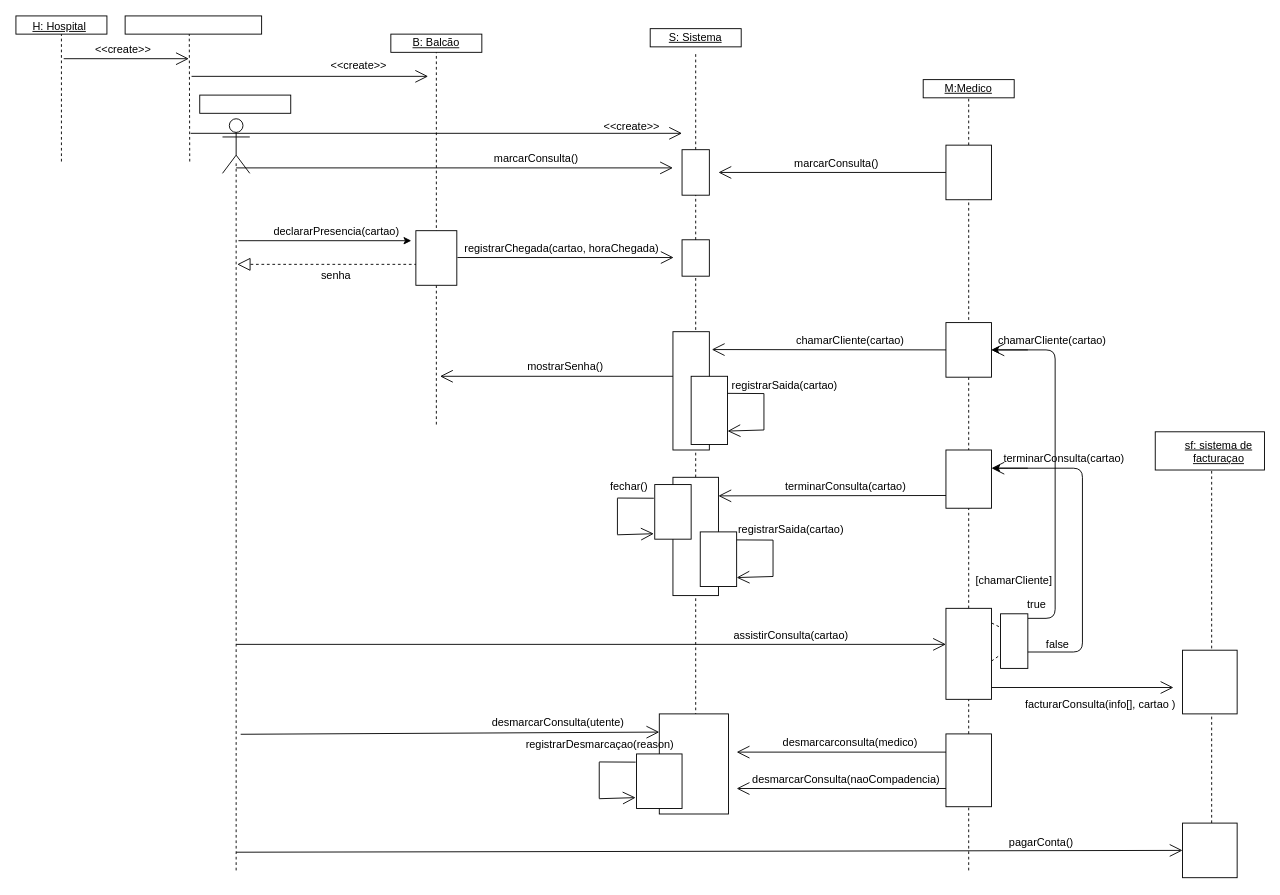
Image size: 1280x895. Some labels were removed from this diagram. Here are the shapes that lost their labels. From the top down, the box of each, then its label:
(124, 15, 262, 34): C:ConsultasExternas
(199, 94, 291, 113): U: Utente
(222, 118, 250, 173): Actor
